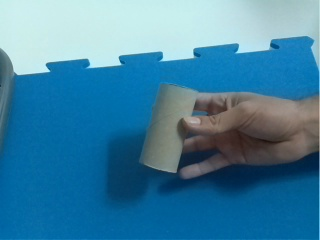rollo papel: (137, 84, 198, 174)
